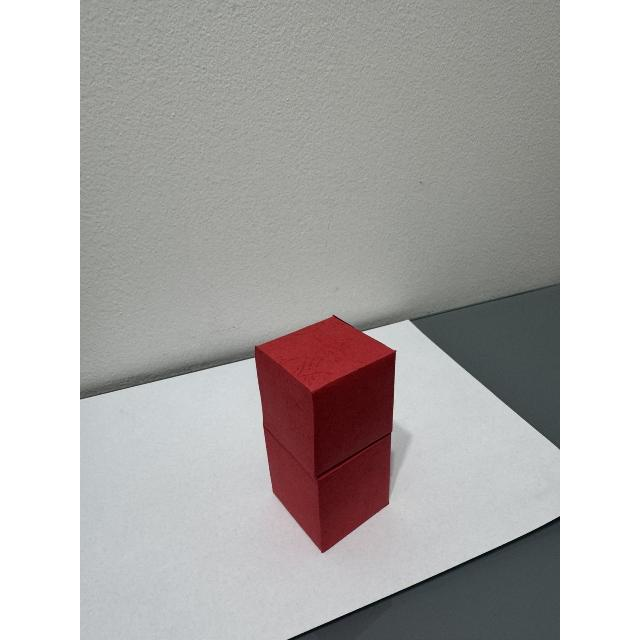red_cube: (244, 303, 416, 562)
